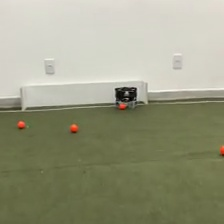ball: (68, 122, 78, 132), (217, 144, 224, 157), (16, 119, 25, 129), (118, 101, 126, 109)
goal: (19, 78, 149, 113)
robot: (112, 84, 139, 111)
